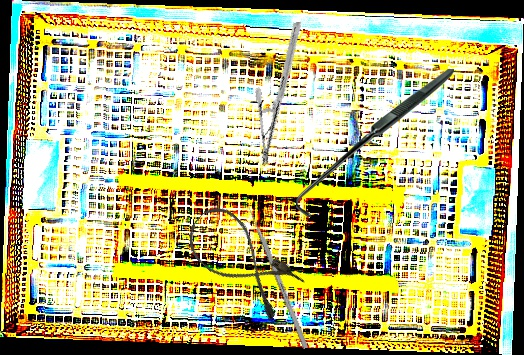Cannula: (177, 198, 307, 324)
Hook Surgical: (296, 69, 454, 217)
Needle Holder: (225, 21, 337, 166)
Pusher: (242, 196, 310, 350)
